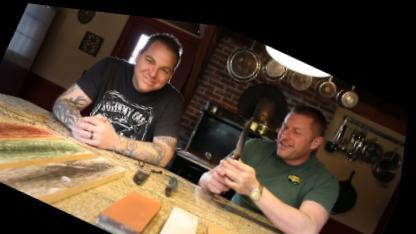knife: (212, 97, 274, 186)
